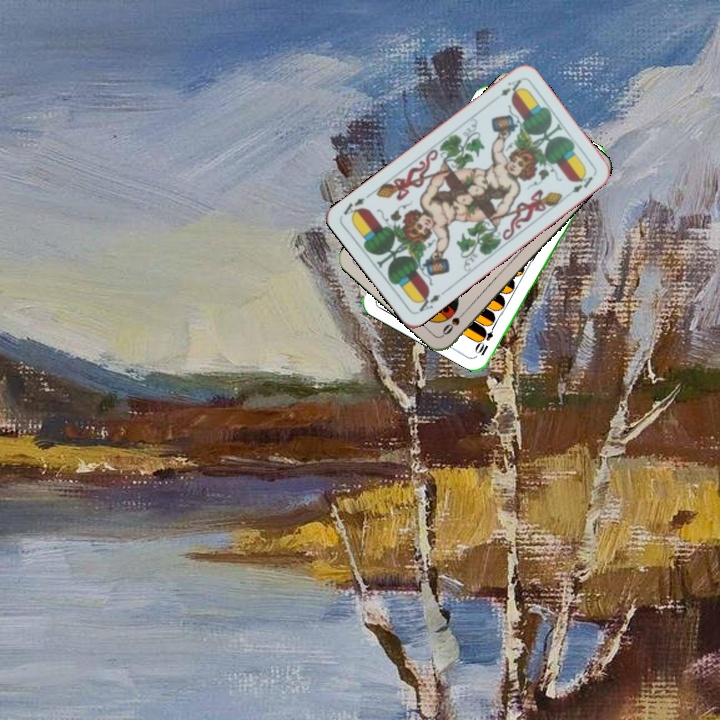E10: (473, 320, 499, 358)
EA: (413, 289, 443, 315), (496, 75, 524, 99)
SO: (438, 305, 470, 338)
